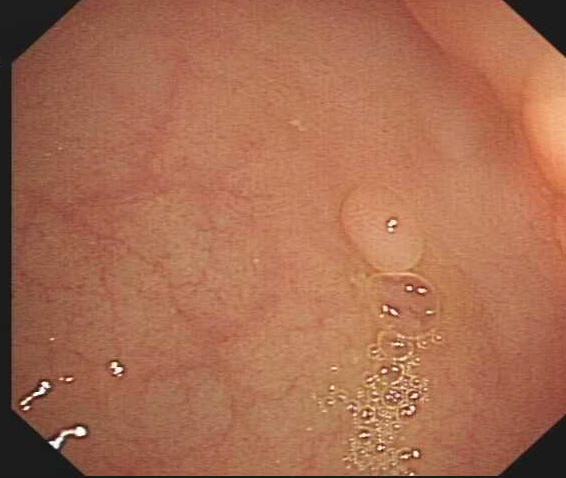others: (336, 178, 427, 280)
